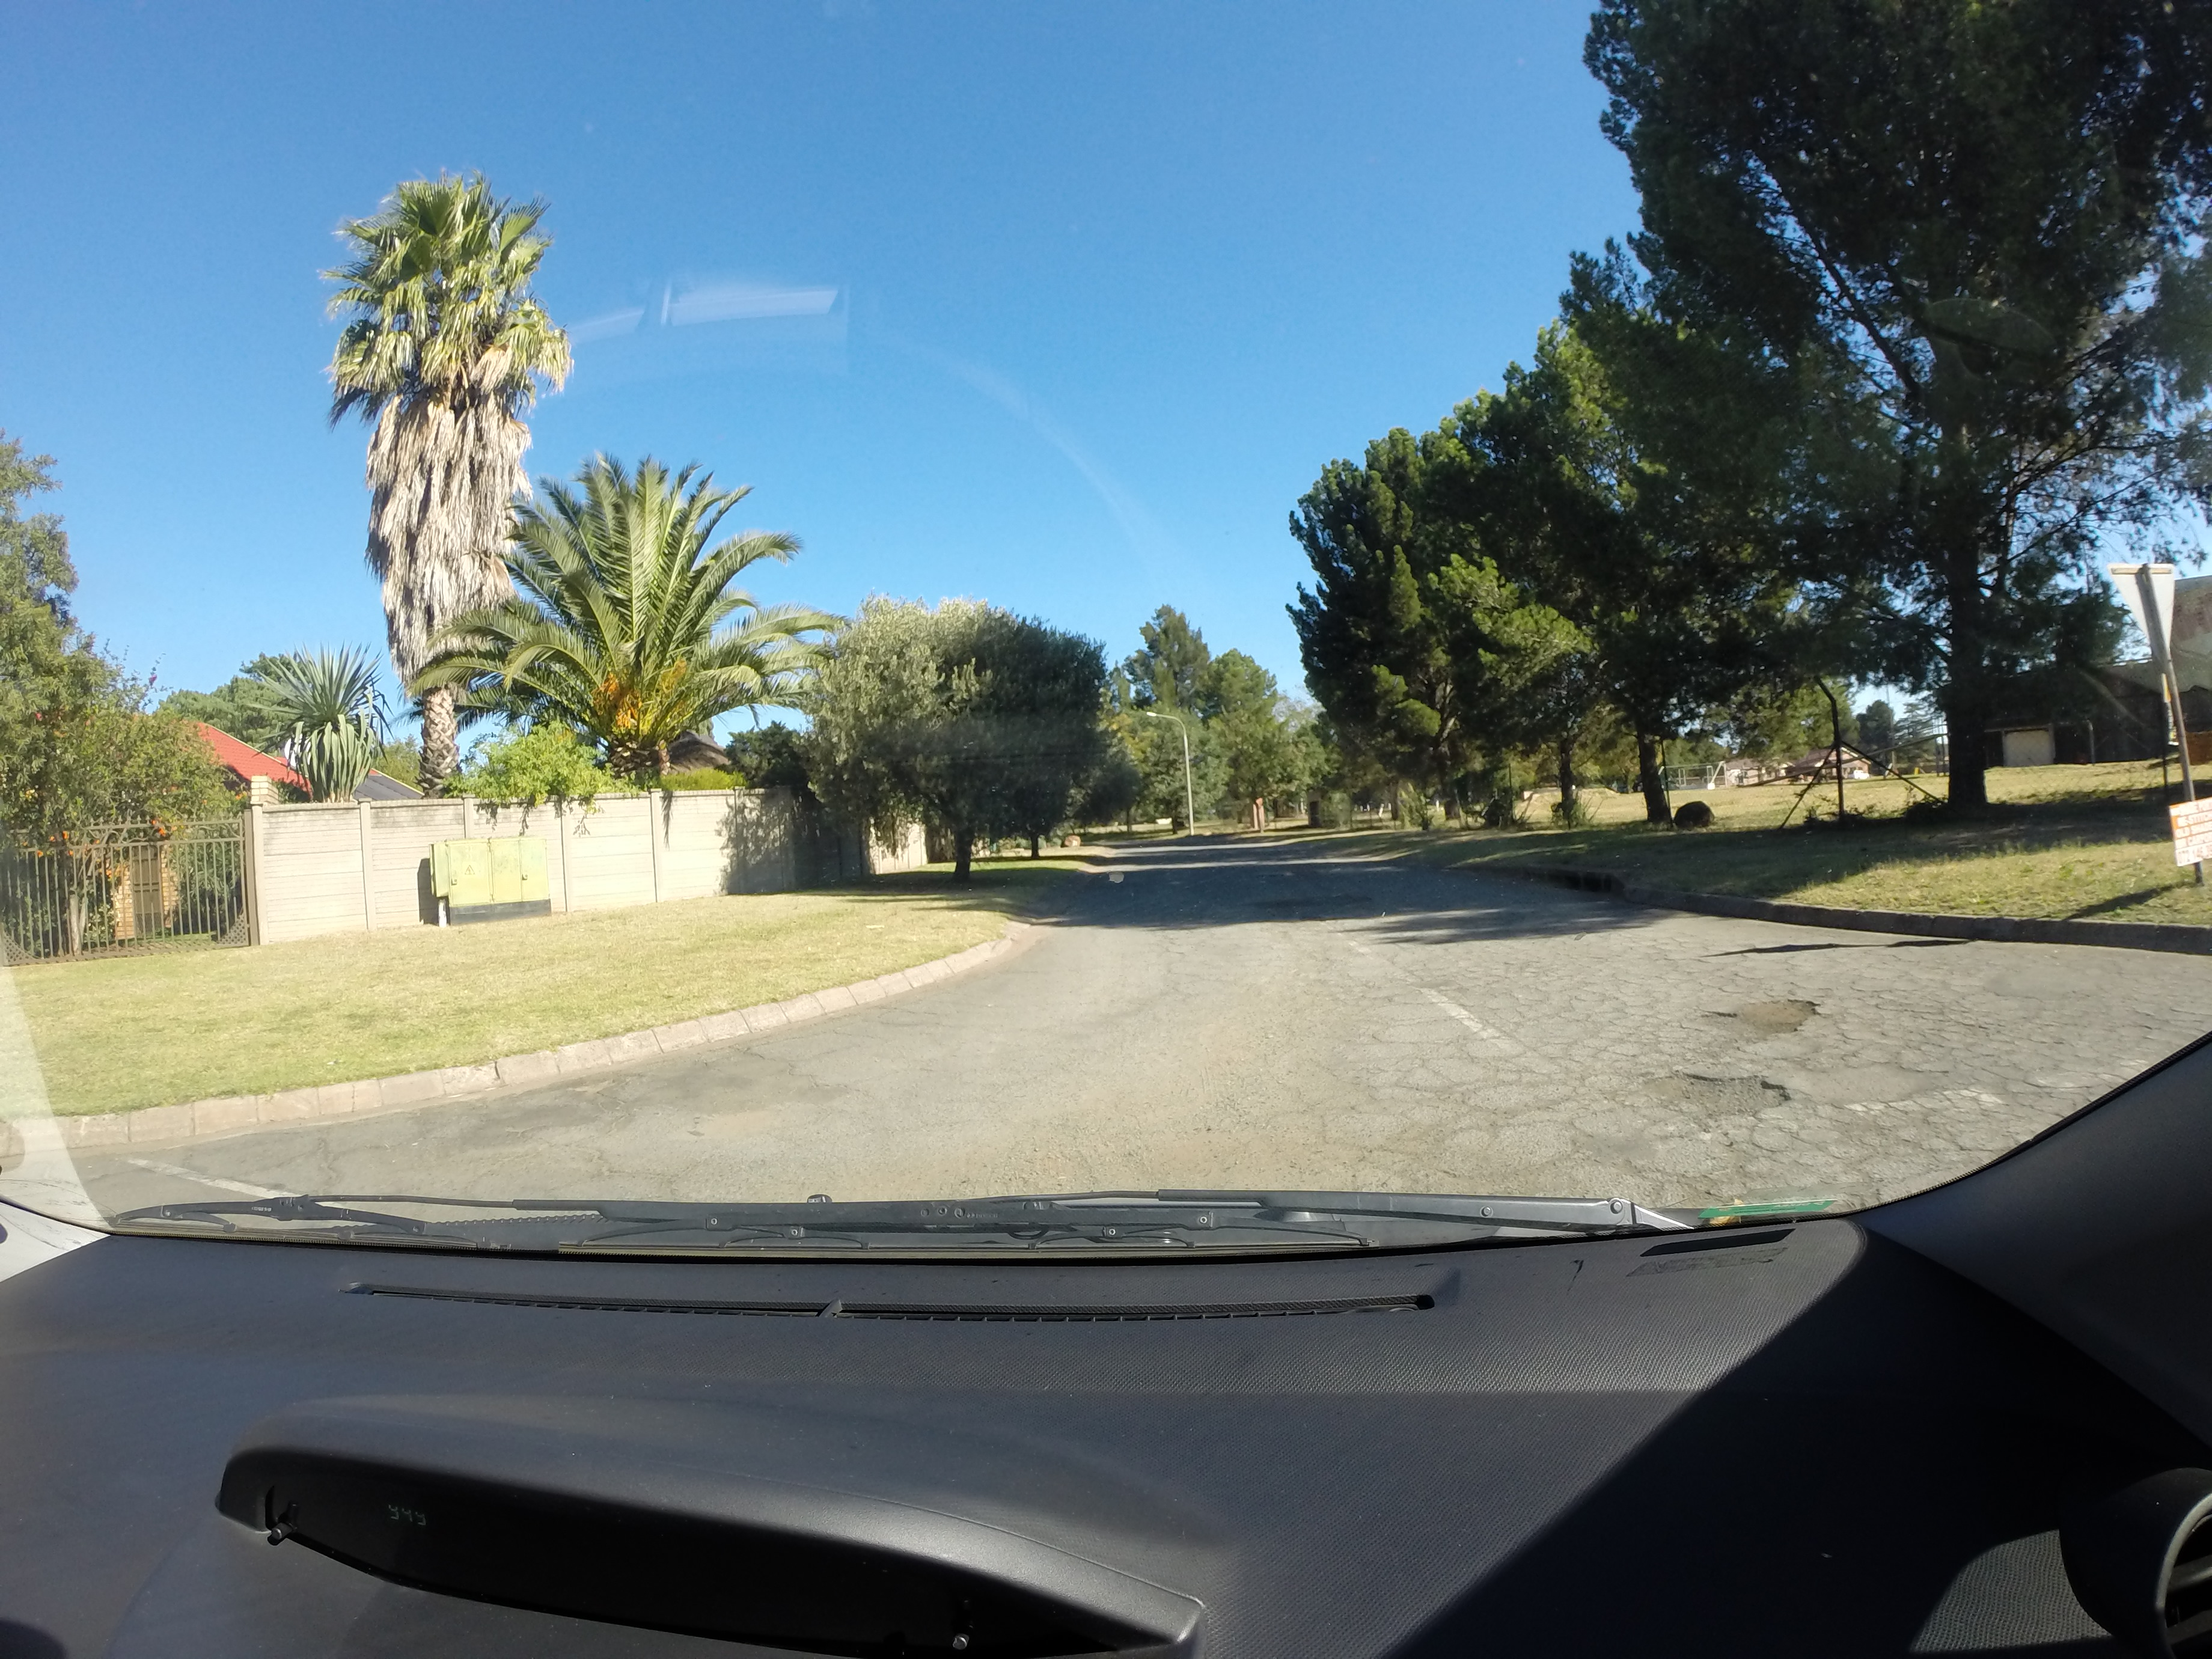pothole: (1613, 983, 1860, 1143)
